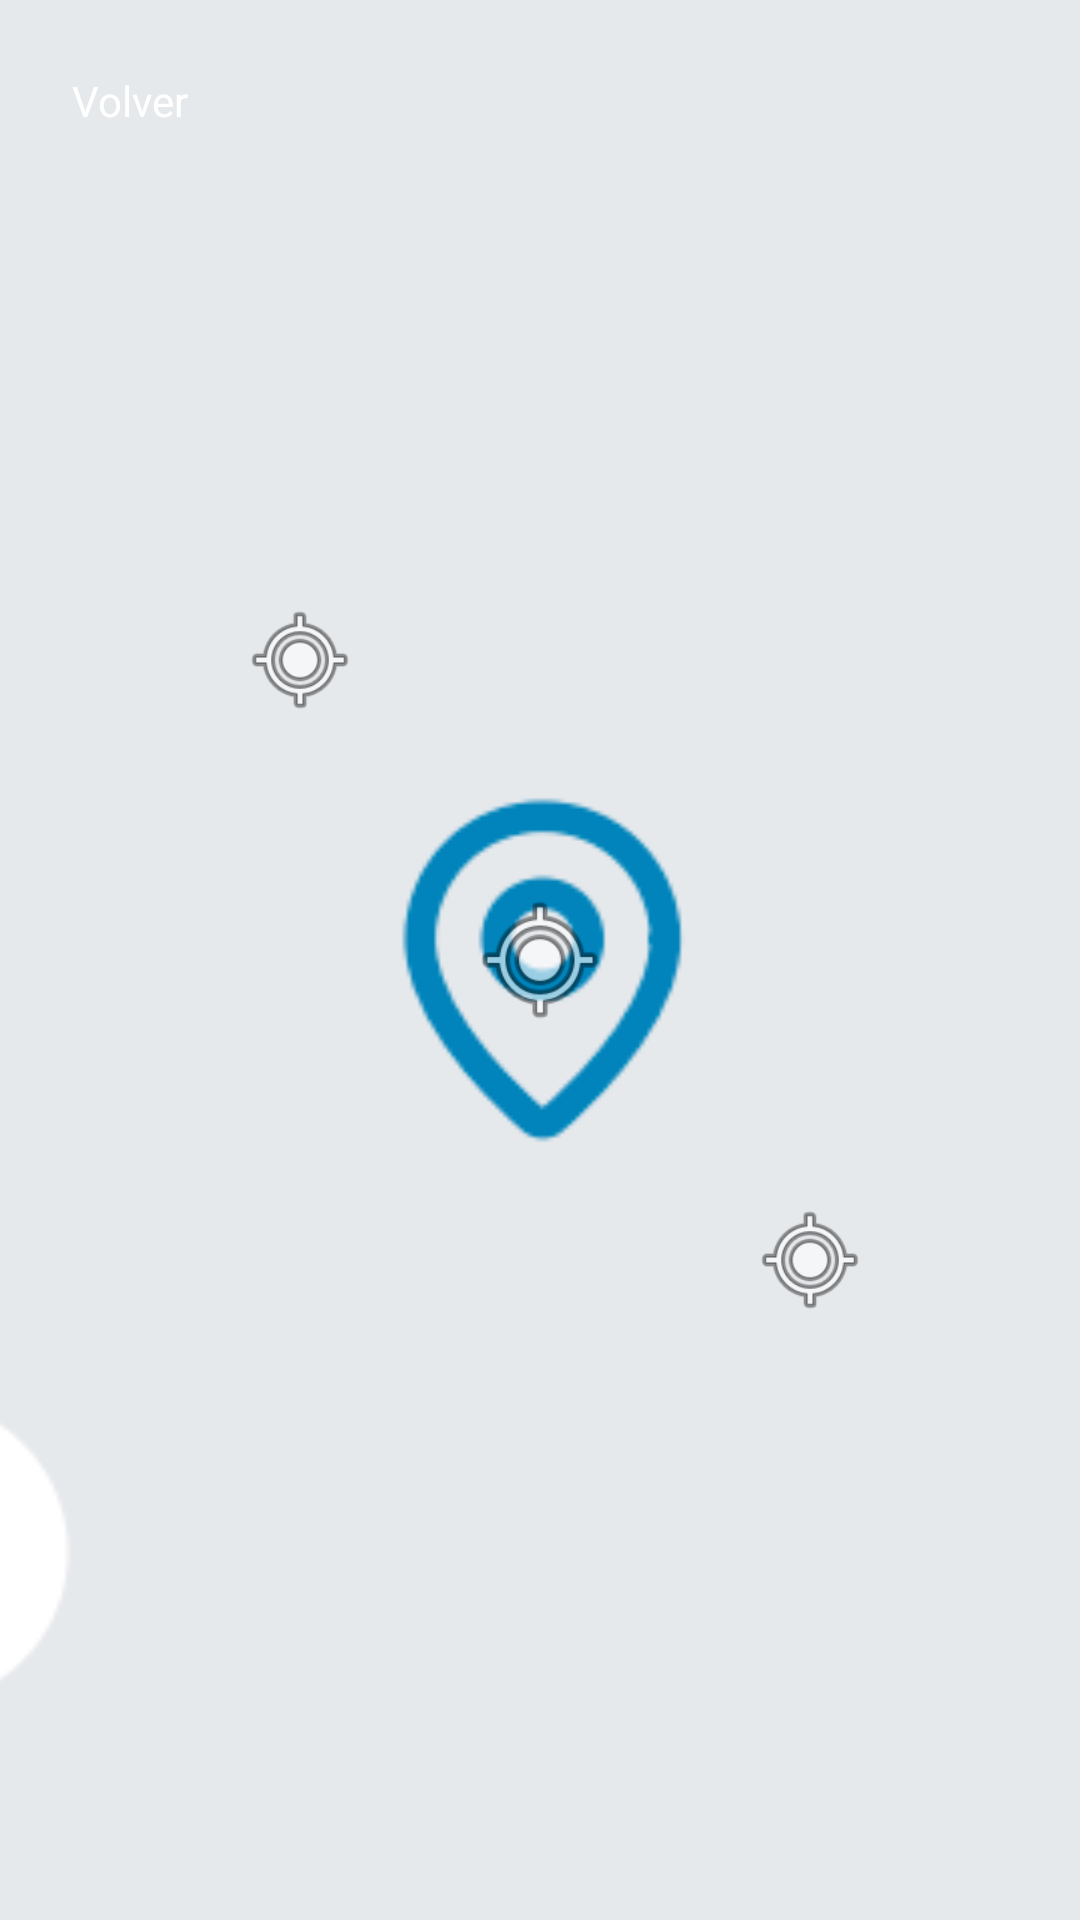

Point at icon controls on the screen. Image size 1080×1920, points as (x,y).
mylocation: (300,660), (540,960), (810,1260)
